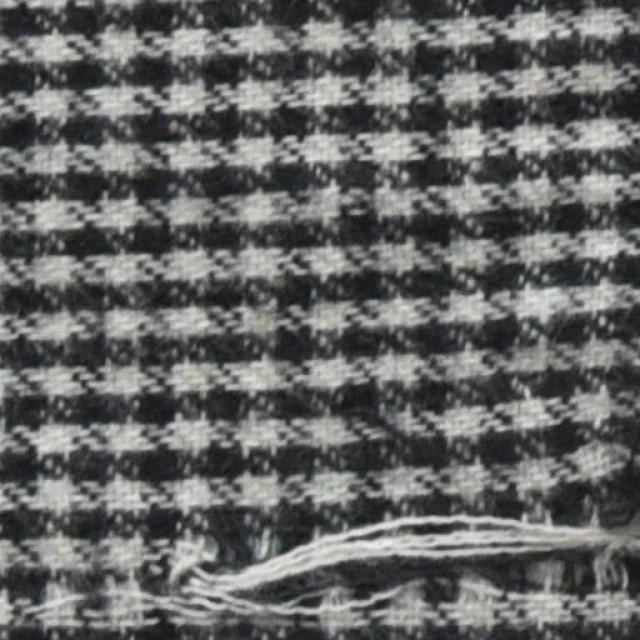Snag: (6, 451, 639, 639)
